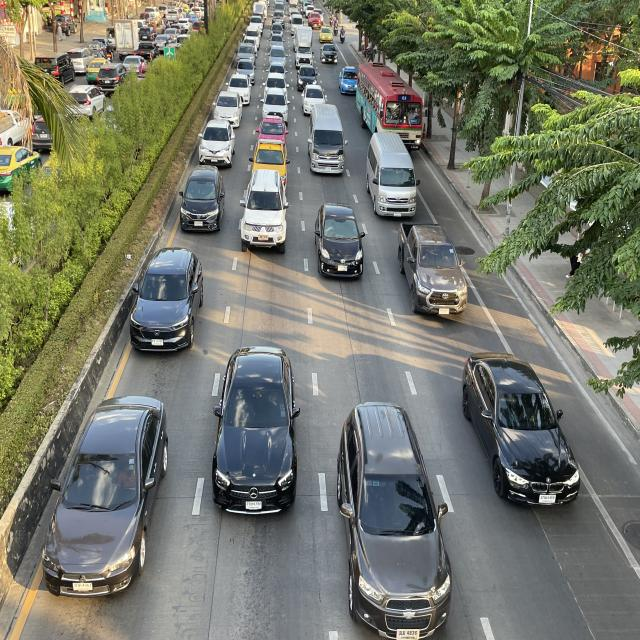bus: (354, 54, 427, 161)
